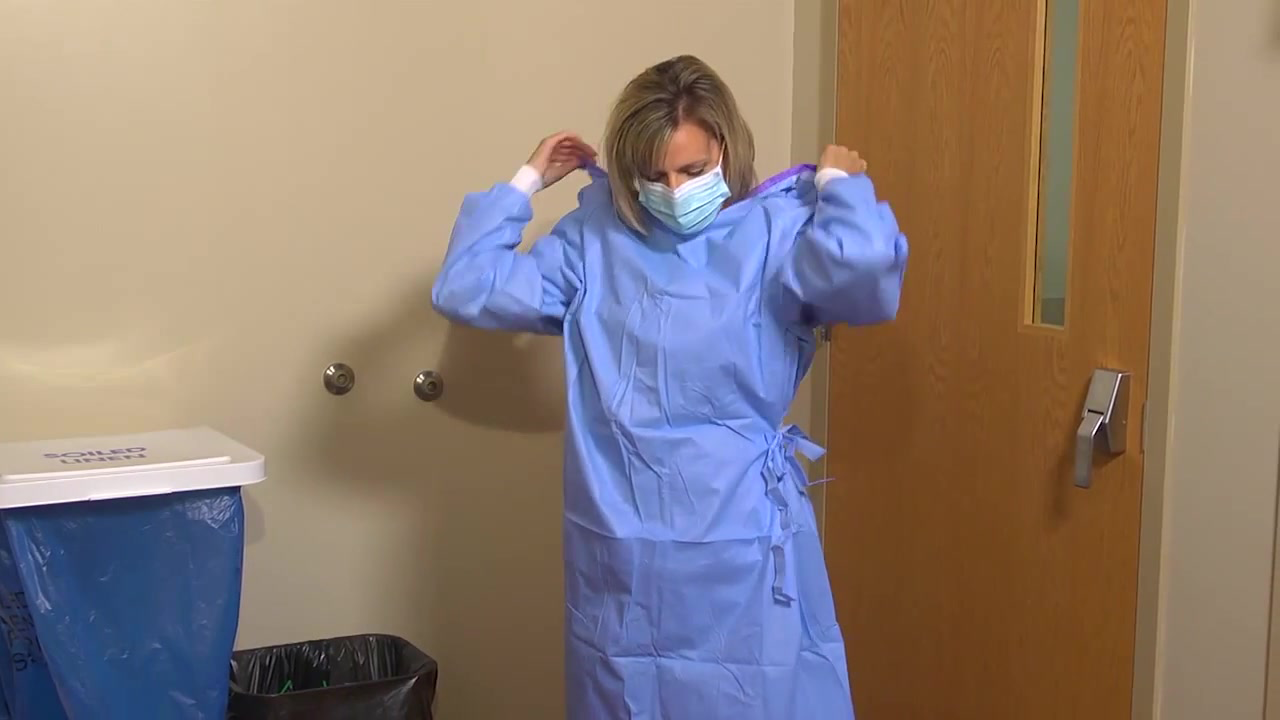Coverall: (428, 151, 893, 720)
with_mask: (627, 159, 734, 235)
